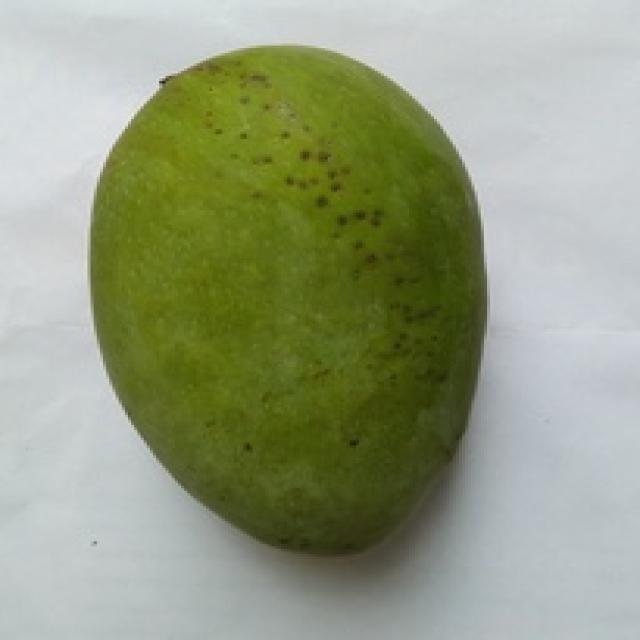Mango: (94, 46, 481, 551)
